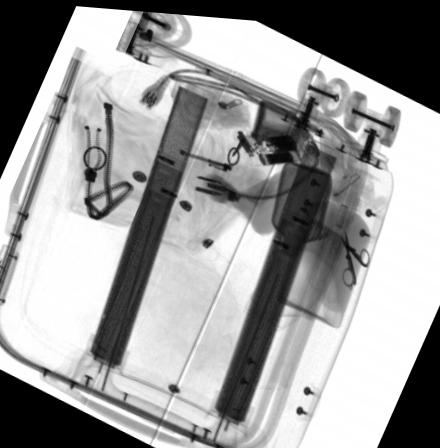Scissors: (338, 223, 370, 284)
